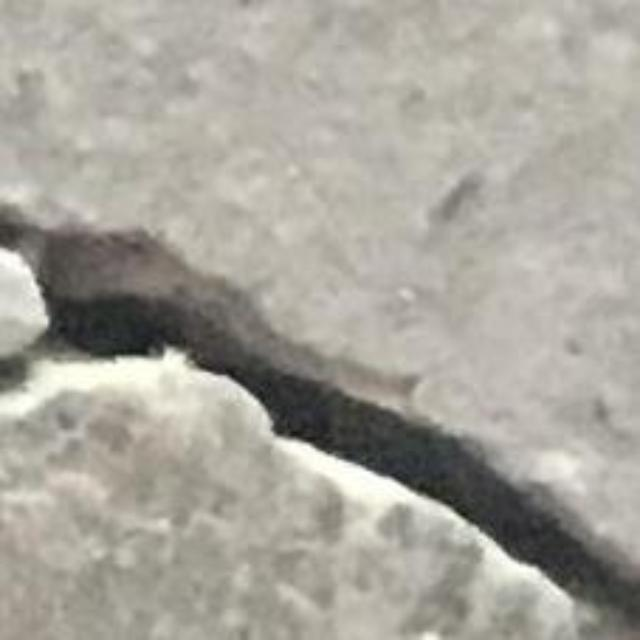crack: (0, 203, 639, 628)
